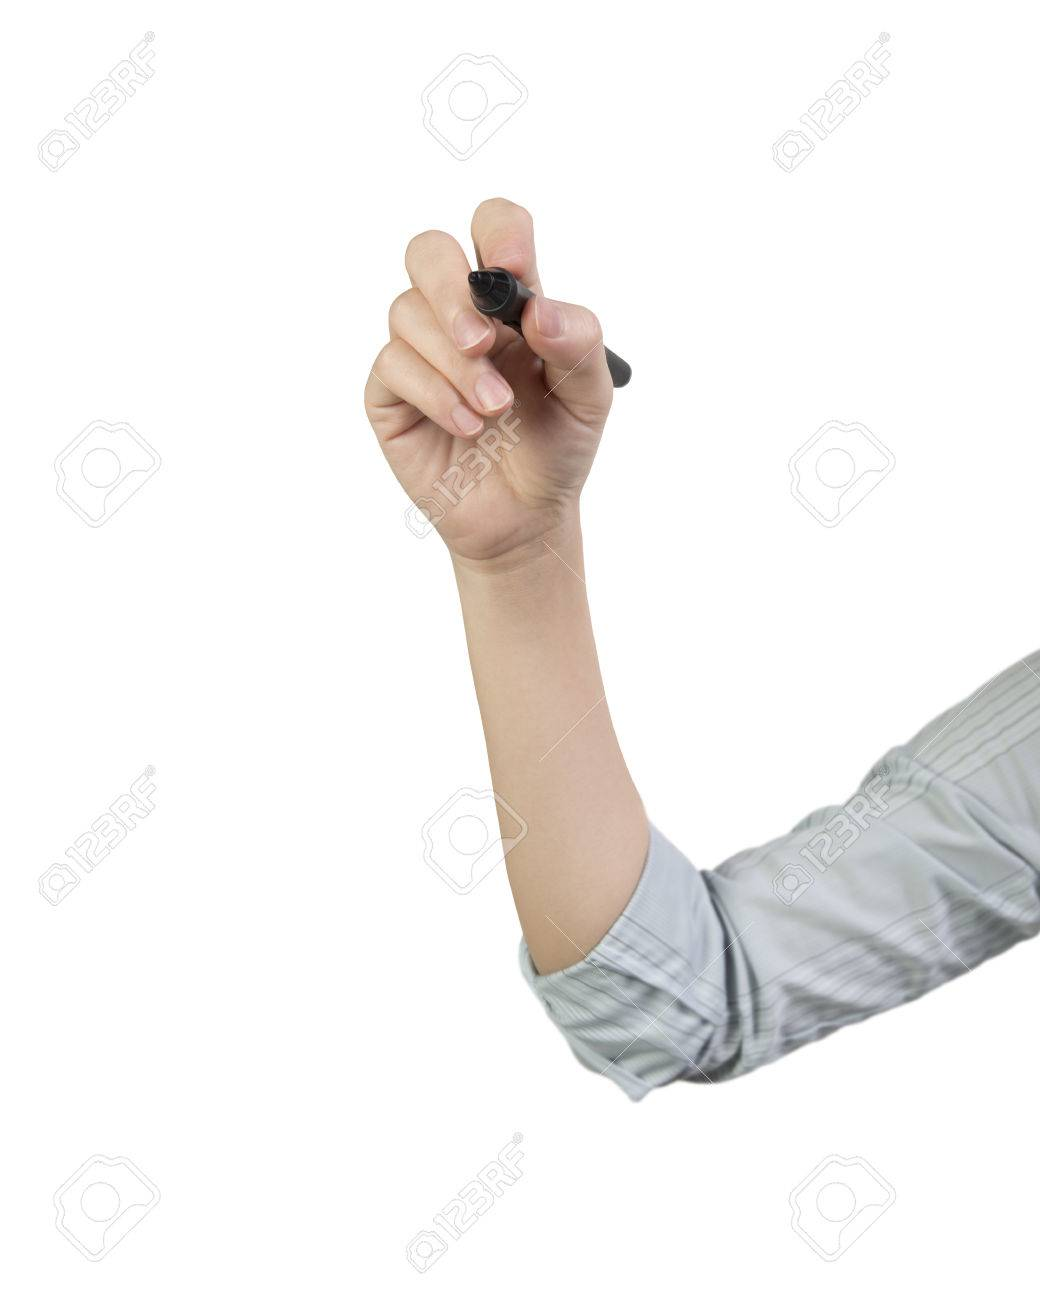pointer: (374, 221, 635, 547)
